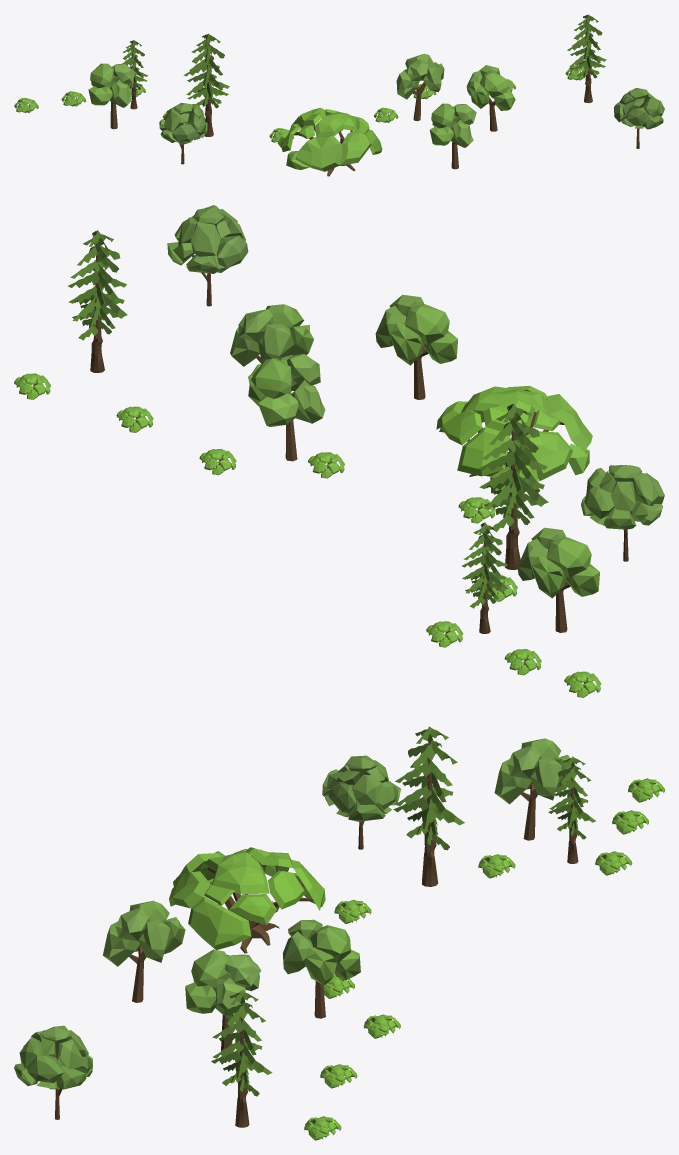
The model's file is TreeGroup 4.fbx.
3 renders of one model, top to bottom at view 1: azimuth 30°, elevation 25°; view 2: azimuth 150°, elevation 25°; view 3: azimuth 270°, elevation 25°, orthographic. The views are drawn at different scales.
Parts seen in each view (by area): view 1: TreeGroup__4__mesh_mesh; view 2: TreeGroup__4__mesh_mesh; view 3: TreeGroup__4__mesh_mesh.
Part boxes in pixels (x1,y1,x2,y2): TreeGroup__4__mesh_mesh: (14,14,664,176); TreeGroup__4__mesh_mesh: (14,205,664,697); TreeGroup__4__mesh_mesh: (14,726,664,1140).
Size of the model in its own units: 6876 by 1473 by 5346.
